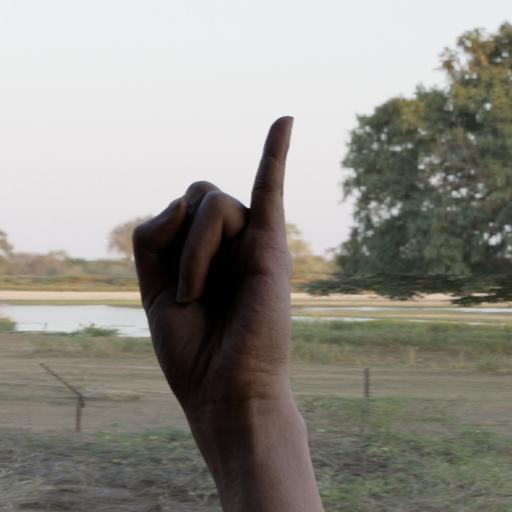I: (111, 107, 320, 512)
